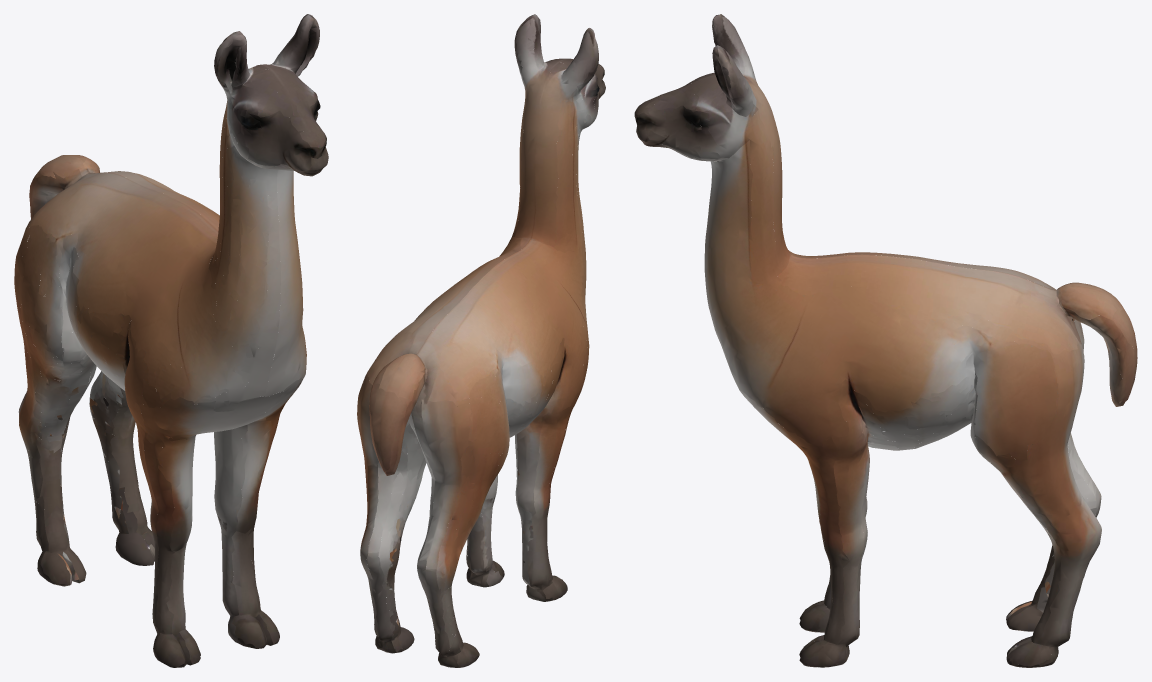
The model's file is guanaco.glb.
The picture shows the model from 3 angles, left to right: view 1: azimuth 30°, elevation 25°; view 2: azimuth 150°, elevation 25°; view 3: azimuth 270°, elevation 25°; orthographic projection. The views are drawn at different scales.
Visible parts, largest first — view 1: guanaco; view 2: guanaco; view 3: guanaco.
Part boxes in pixels (bbox=[...]): guanaco: bbox=[14, 14, 328, 667]; guanaco: bbox=[357, 14, 605, 667]; guanaco: bbox=[634, 14, 1137, 667].
Bounding box in the file's own units: 0.4664 × 1.75 × 1.3.
1 material, 1 textured.
